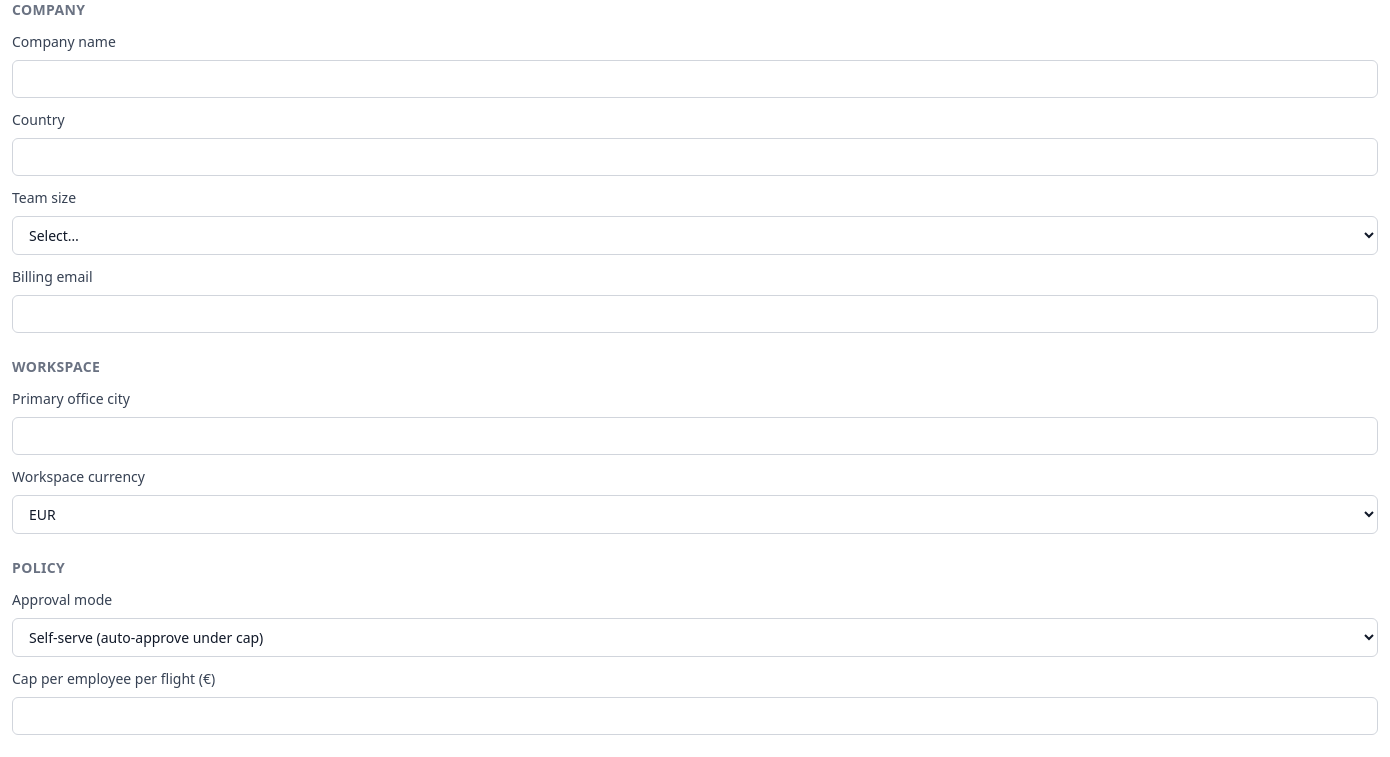
Test: CompanyProfileForm › shows the manager-threshold input after switching to manager_approval
Select "Manager approval above threshold" in the dropdown labelled "Approval mode" at [695, 638], box x1=12 y1=618 x2=1378 y2=657
(page scrolled)
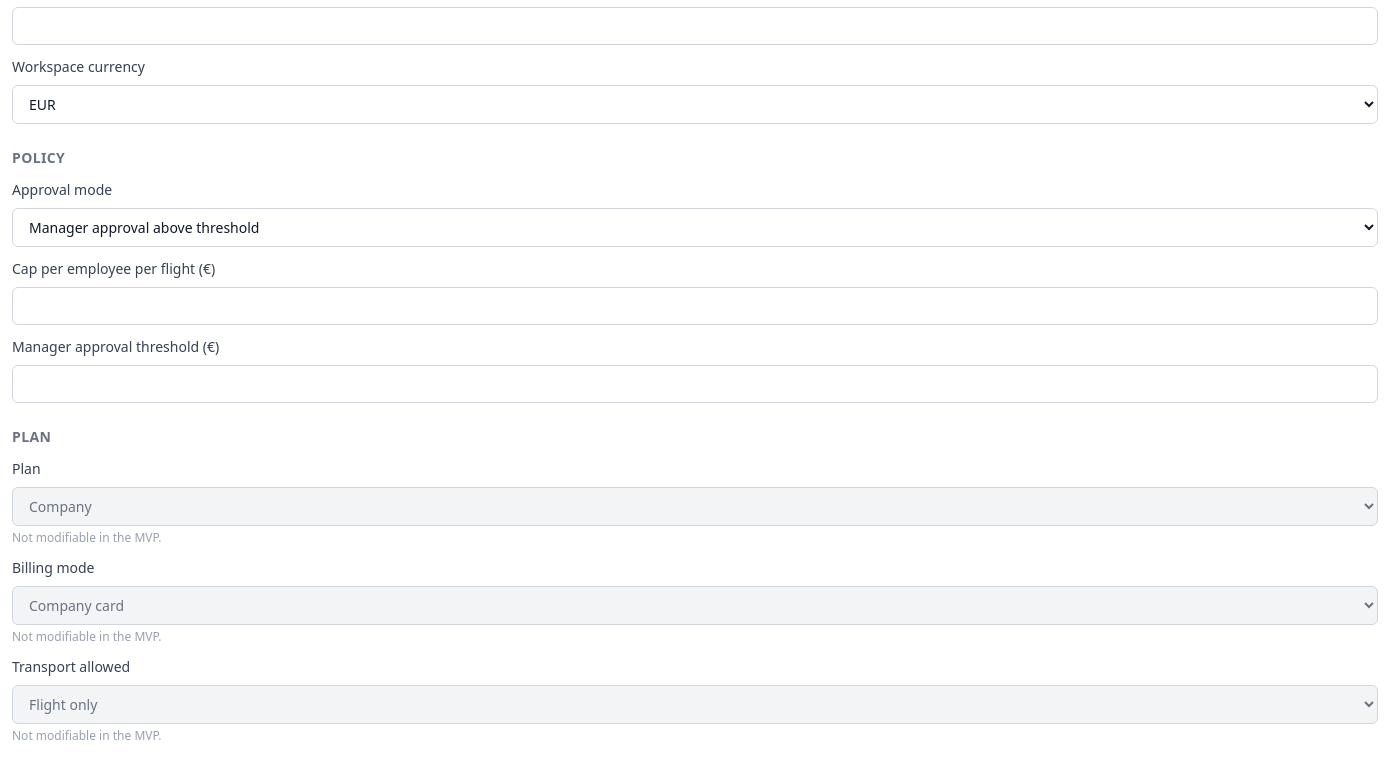
Check: the number field labelled "Manager approval threshold (€)" is shown, box x1=12 y1=365 x2=1378 y2=403
